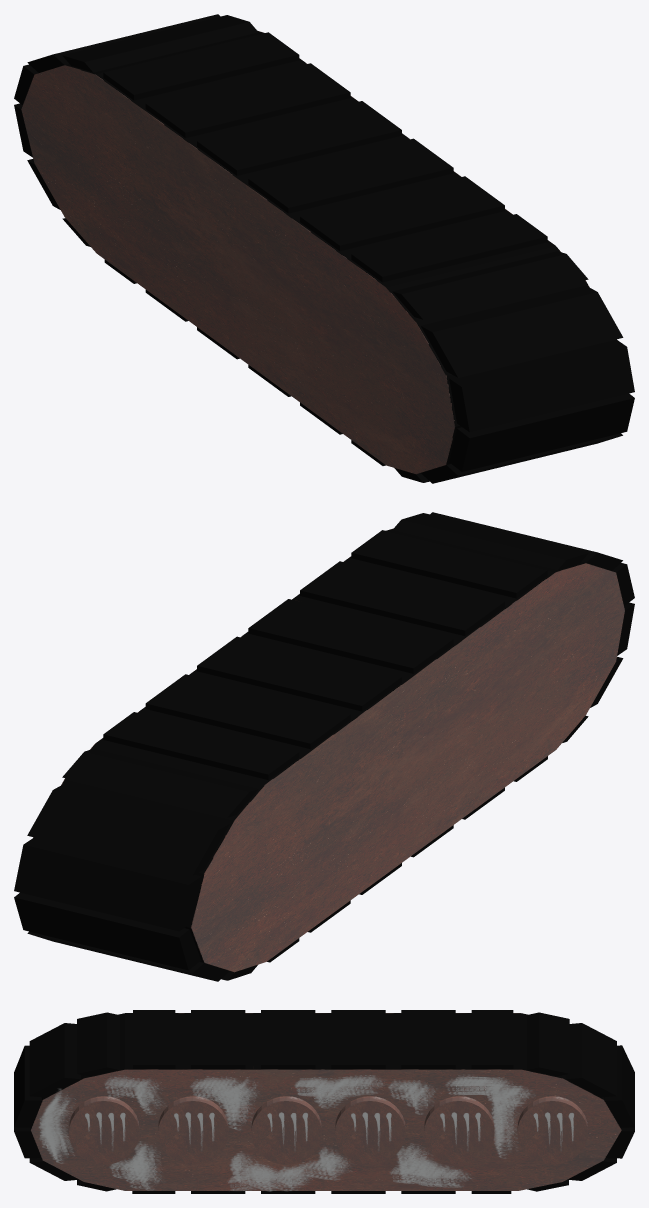
File: Rueda_tanque.glb
The picture shows the model from 3 angles, top to bottom: view 1: azimuth 30°, elevation 25°; view 2: azimuth 150°, elevation 25°; view 3: azimuth 270°, elevation 25°; orthographic projection. The views are drawn at different scales.
Visible parts, largest first — view 1: Cube; view 2: Cube; view 3: Cube.
Boxes of the visible parts, x1,y1,x2,y2 form: Cube: (14, 14, 634, 483); Cube: (14, 512, 634, 981); Cube: (14, 1010, 634, 1193).
Size of the model in its own units: 1.61 by 1.58 by 6.9.
Materials: 1 (1 with a texture image).
